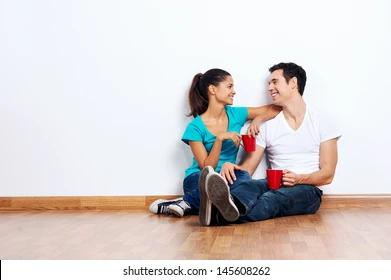short sleeve shirt: (253, 104, 342, 190), (180, 104, 250, 175)
trousers: (212, 177, 324, 227), (182, 170, 253, 207)
